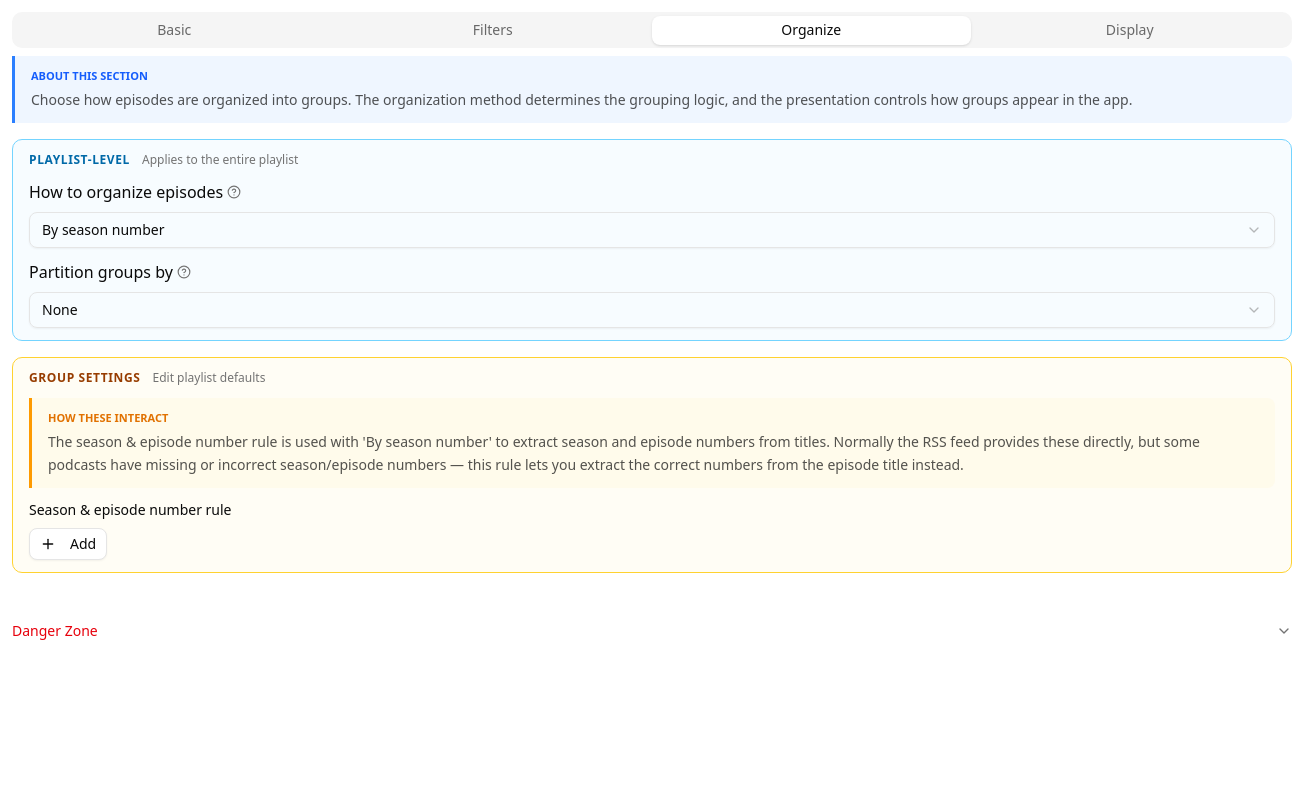
Test: PlaylistForm › FilterSettings › renders include and exclude filter sections
Click the tab "Filters": click(493, 30) [334,16,652,44]
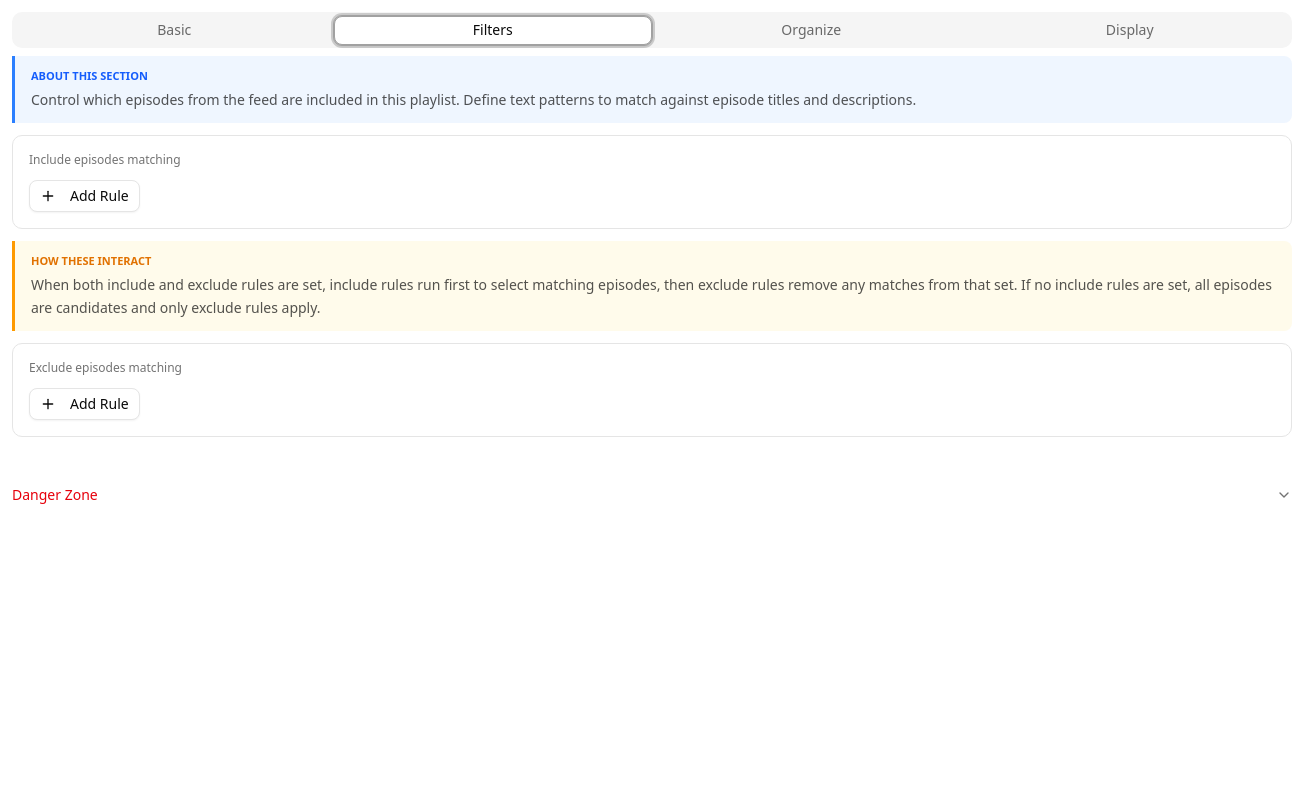
Result: the heading "Include episodes matching" is shown at [29,151,181,168]
Result: the heading "Exclude episodes matching" is shown at [29,359,182,376]
